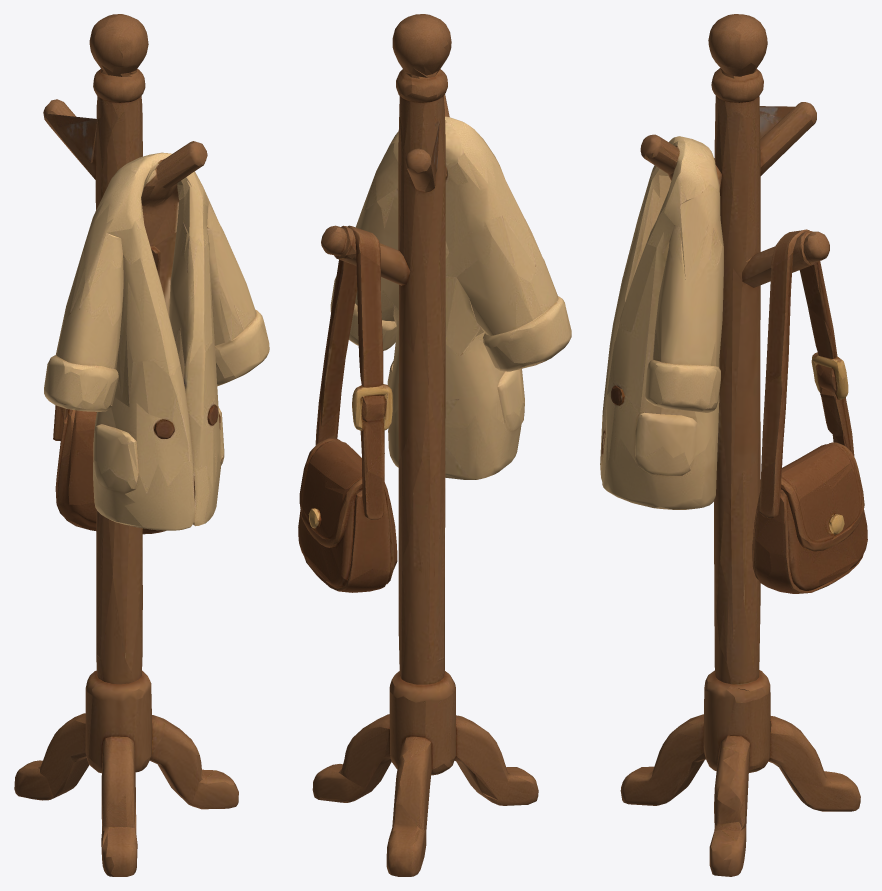
File: coathanger.glb
3 renders of one model, left to right at view 1: azimuth 30°, elevation 25°; view 2: azimuth 150°, elevation 25°; view 3: azimuth 270°, elevation 25°, orthographic.
Visible parts, largest first — view 1: mesh_node; view 2: mesh_node; view 3: mesh_node.
Part boxes in pixels (left/top/right/bottom): mesh_node: left=14, top=14, right=269, bottom=876; mesh_node: left=298, top=14, right=571, bottom=876; mesh_node: left=600, top=14, right=867, bottom=876.
Bounding box in the file's own units: 0.2588 × 0.8979 × 0.27.
Materials: 1 (1 with a texture image).
